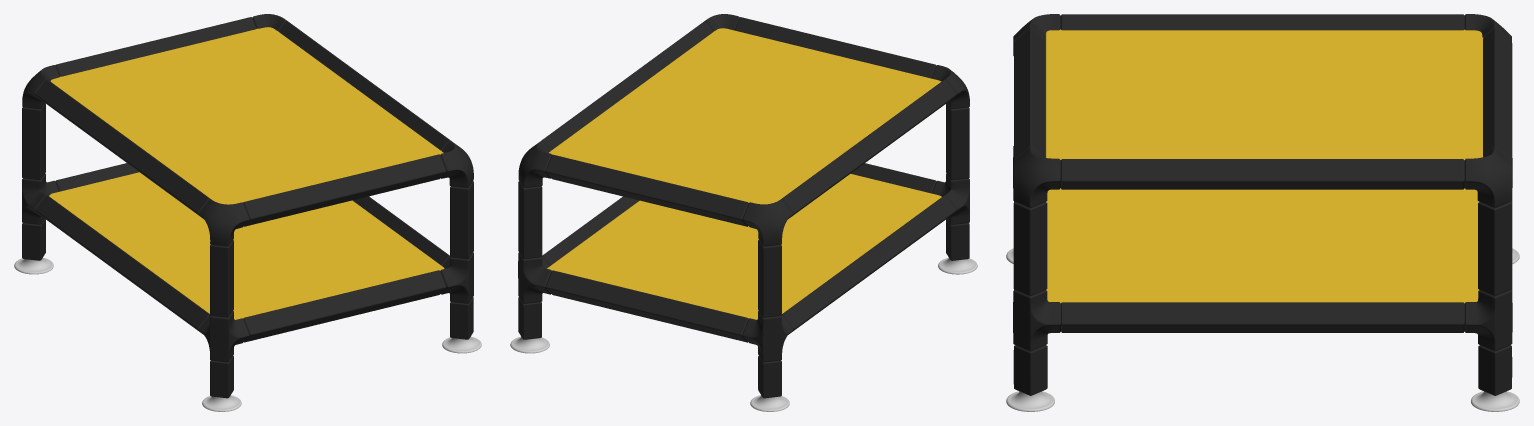
3 renders of one model, left to right at view 1: azimuth 30°, elevation 25°; view 2: azimuth 150°, elevation 25°; view 3: azimuth 270°, elevation 25°, orthographic. The views are drawn at different scales.
Parts seen in each view (by area): view 1: 229x329x79; view 2: 229x329x79; view 3: 229x329x79.
Part boxes in pixels (x1,y1,x2,y2): 229x329x79: (14, 14, 481, 411); 229x329x79: (510, 14, 977, 411); 229x329x79: (1006, 14, 1519, 411).
Size of the model in its own units: 0.3189 by 0.2183 by 0.4182.
